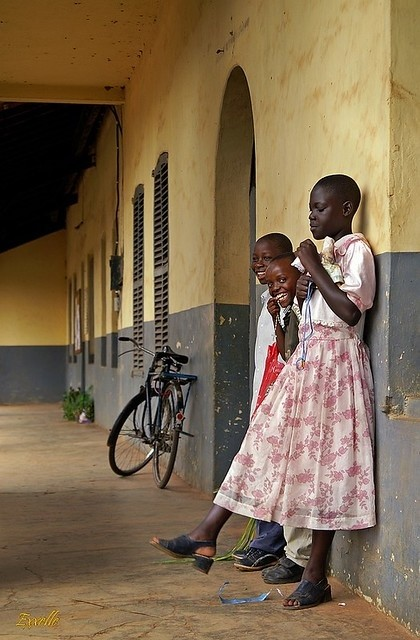face_no_mask: (308, 175, 361, 240), (250, 233, 292, 280), (264, 256, 300, 309)
